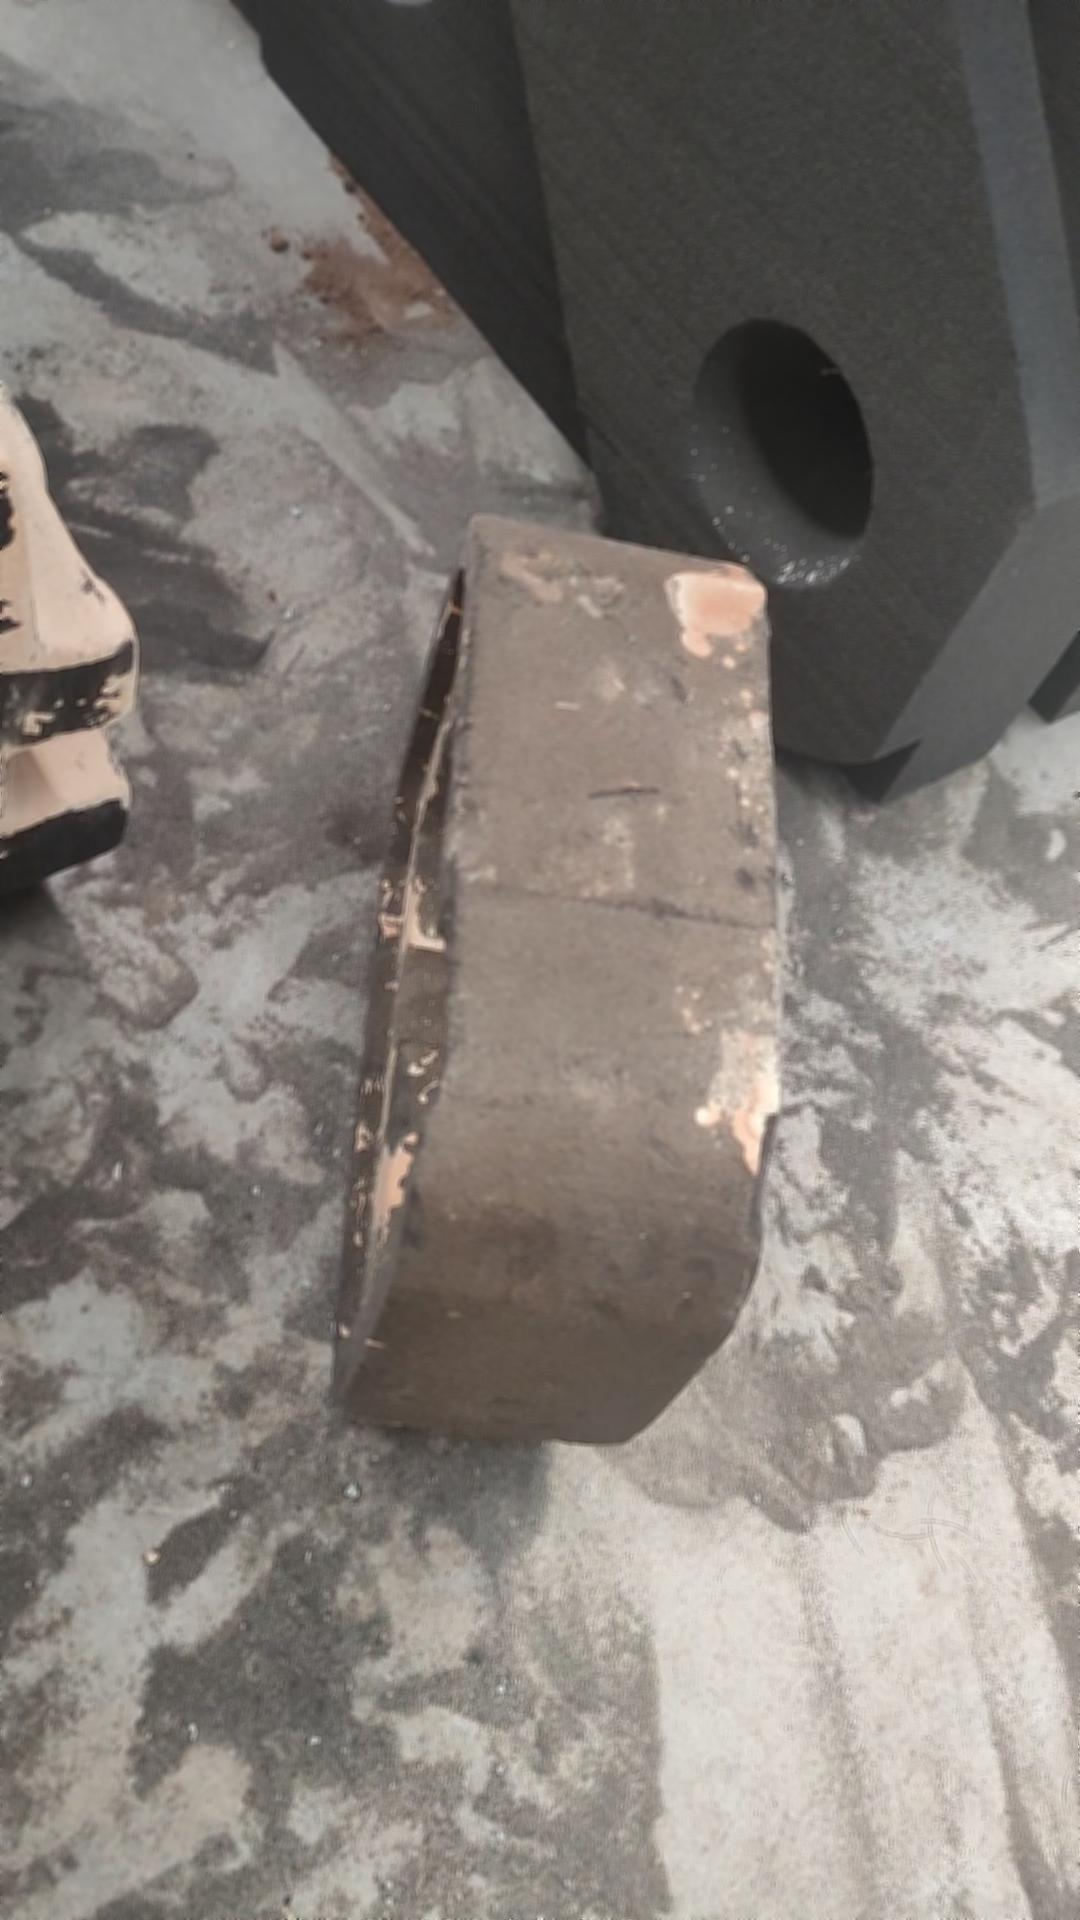pouring hole: (690, 320, 873, 591)
